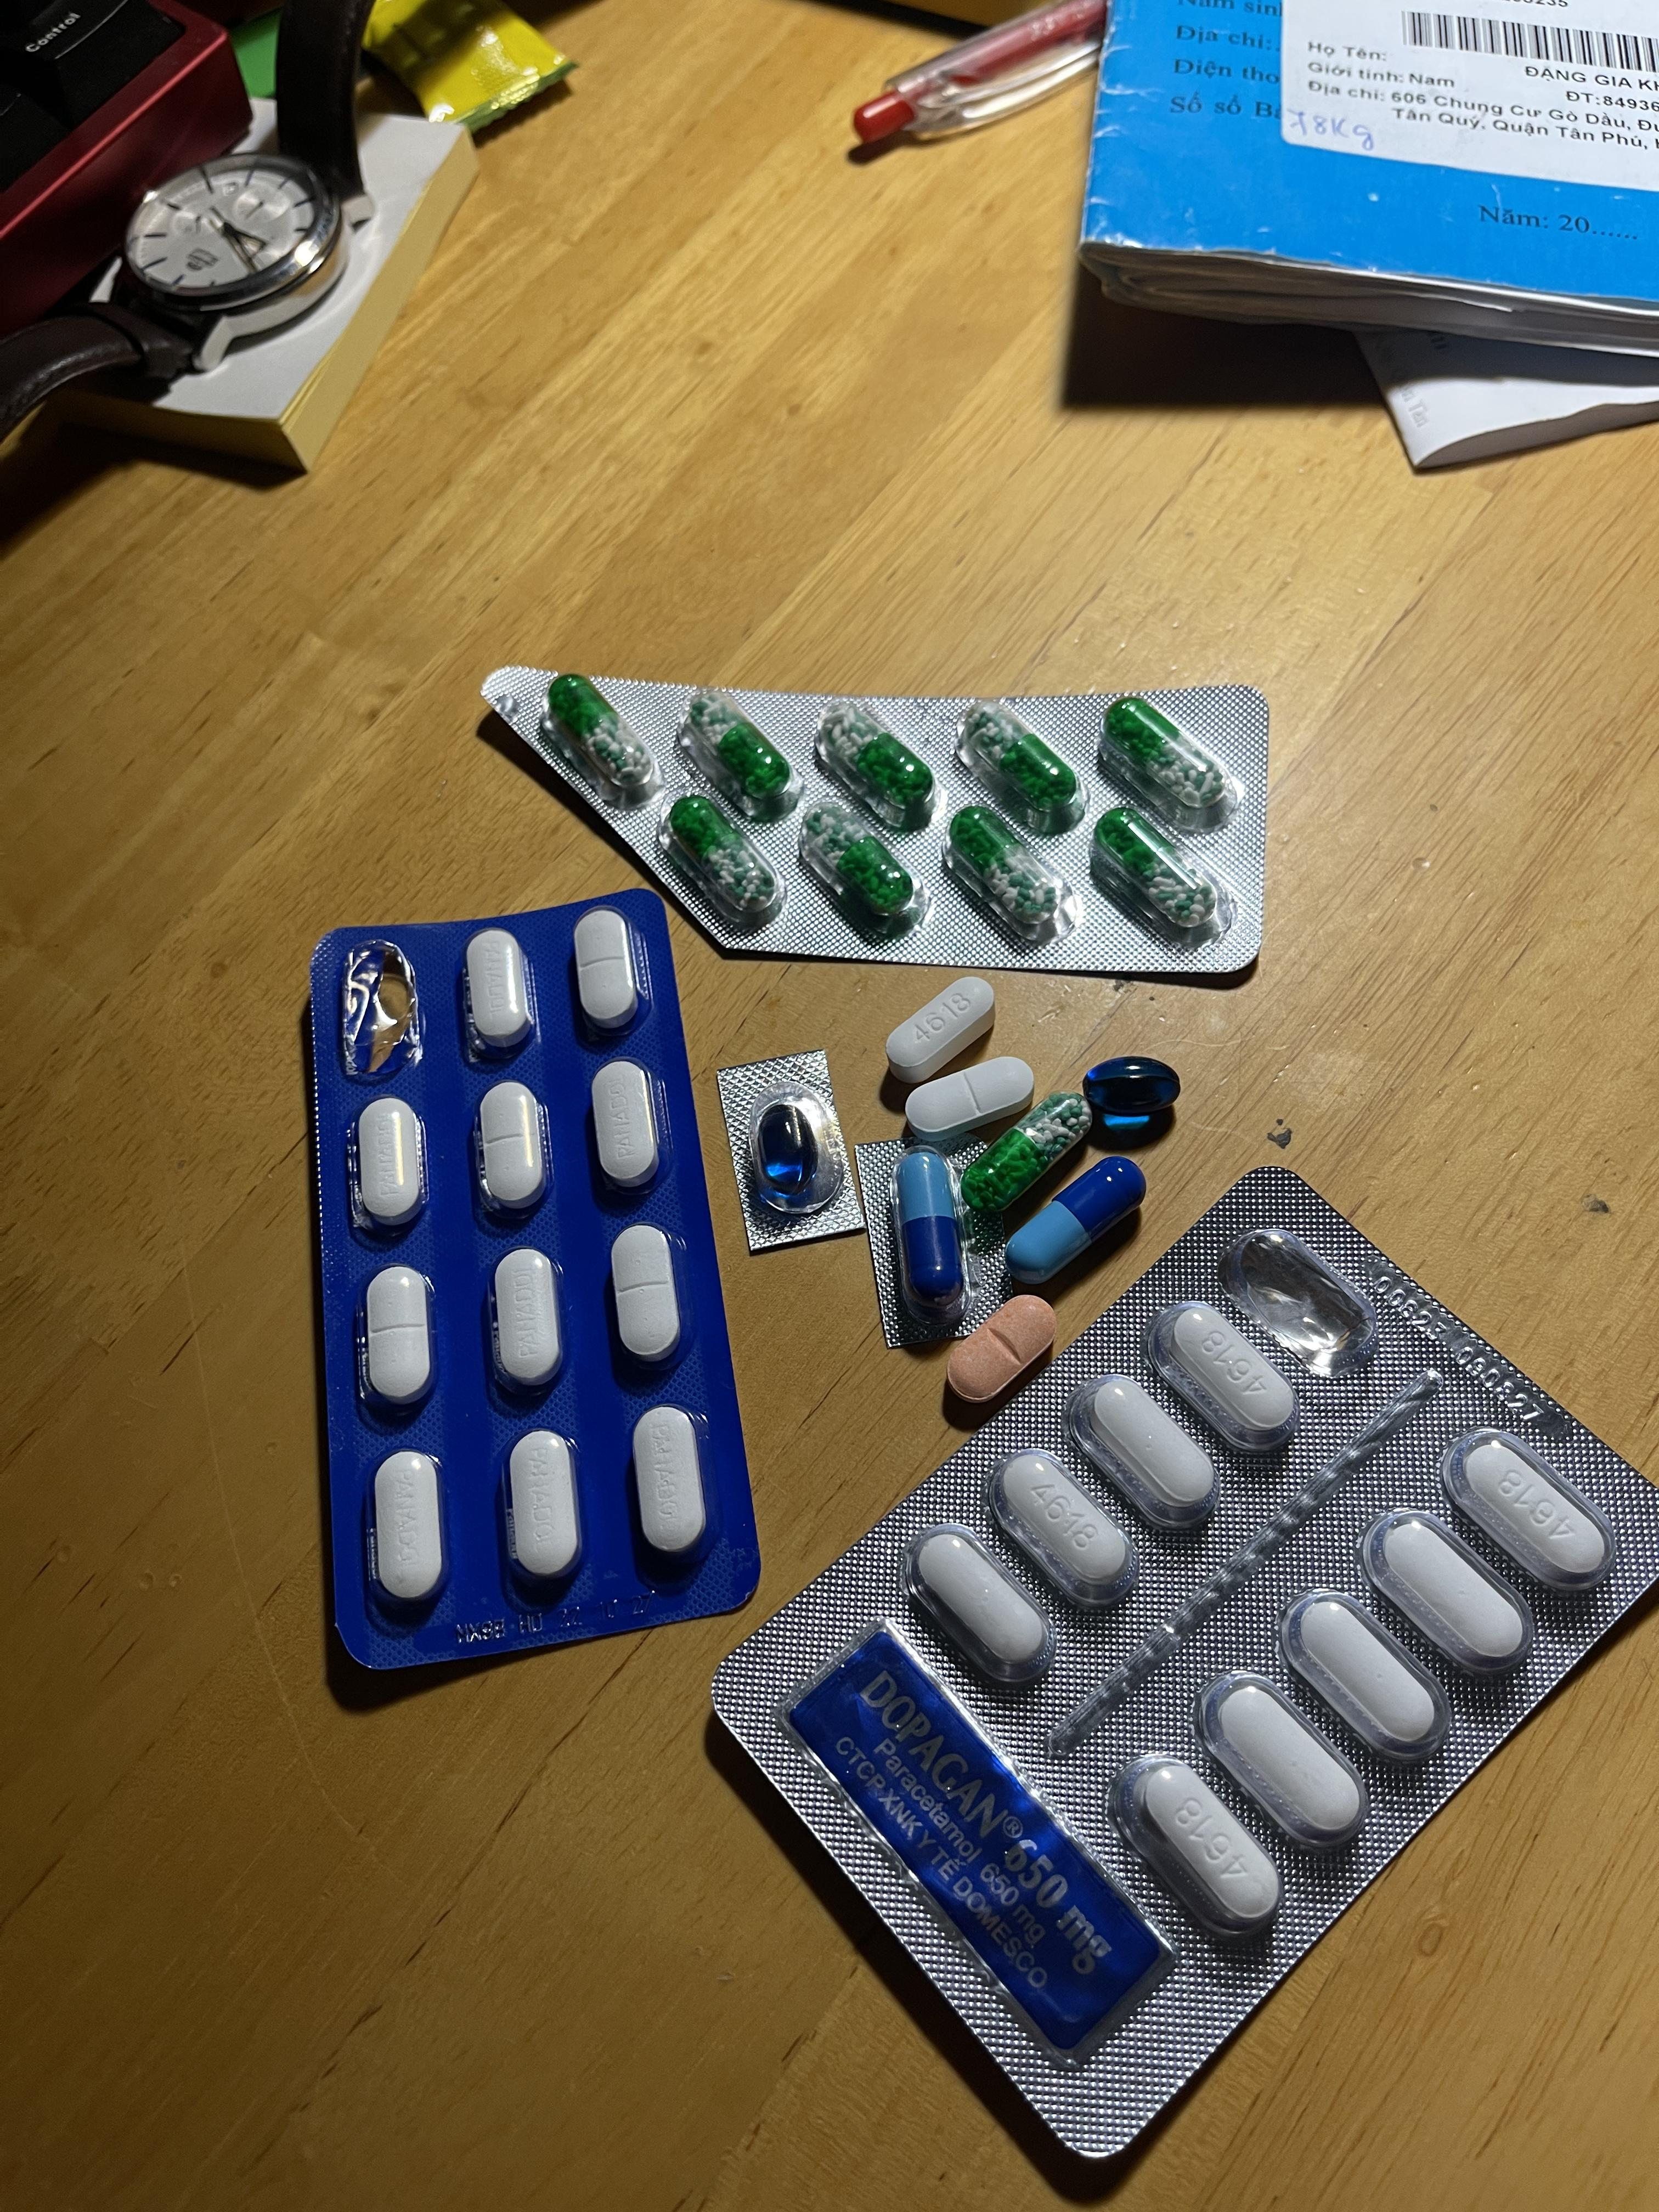Lincomyxin_500mg: (1080, 1055, 1178, 1132), (760, 1104, 817, 1191)
Loratadine_10mg: (945, 1289, 1054, 1395)
Paracetamol_350mg: (904, 1055, 1035, 1148), (373, 1451, 446, 1602), (634, 1411, 708, 1557), (509, 1432, 580, 1580), (491, 1249, 563, 1388), (364, 1264, 434, 1404), (613, 1224, 683, 1360), (477, 1080, 547, 1209), (592, 1061, 660, 1190), (356, 1096, 425, 1221), (465, 932, 533, 1049), (575, 909, 640, 1021)
Paracetamol_500mg: (1112, 1752, 1276, 1944), (1364, 1508, 1535, 1683), (904, 1526, 1056, 1689), (1148, 1303, 1300, 1456), (1065, 1376, 1211, 1531), (988, 1449, 1134, 1601), (1215, 1679, 1354, 1838), (1295, 1597, 1436, 1747), (1467, 1442, 1603, 1576), (884, 979, 999, 1078)
Paracetamol_650mg: (962, 1089, 1093, 1217), (946, 806, 1065, 932), (962, 704, 1082, 826), (1105, 697, 1225, 810), (826, 702, 934, 820), (551, 674, 655, 792), (673, 794, 774, 913), (1103, 813, 1211, 923), (694, 693, 795, 805), (807, 806, 906, 916)
pill: (1007, 1153, 1145, 1284), (896, 1150, 965, 1318)
